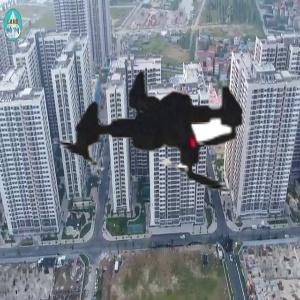drone: (21, 6, 296, 281)
